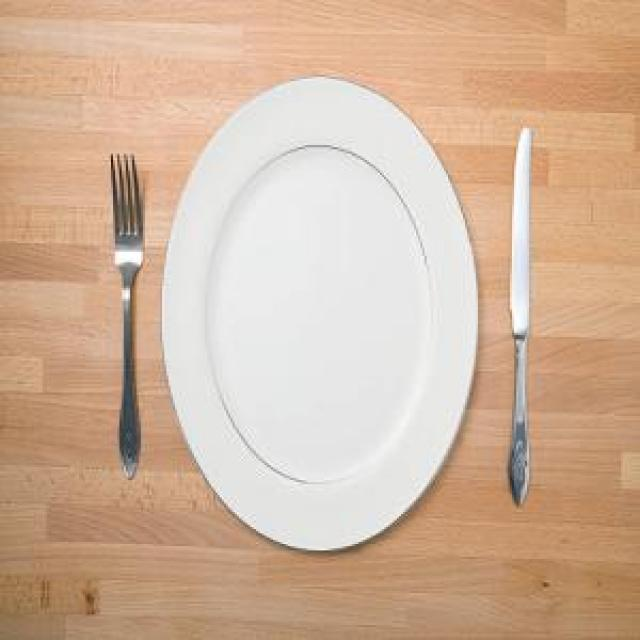knife: (508, 124, 540, 517)
